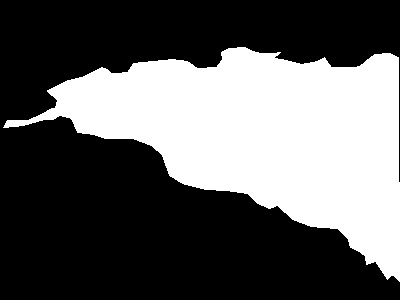Fire: (52, 49, 399, 135), (165, 137, 400, 248)
